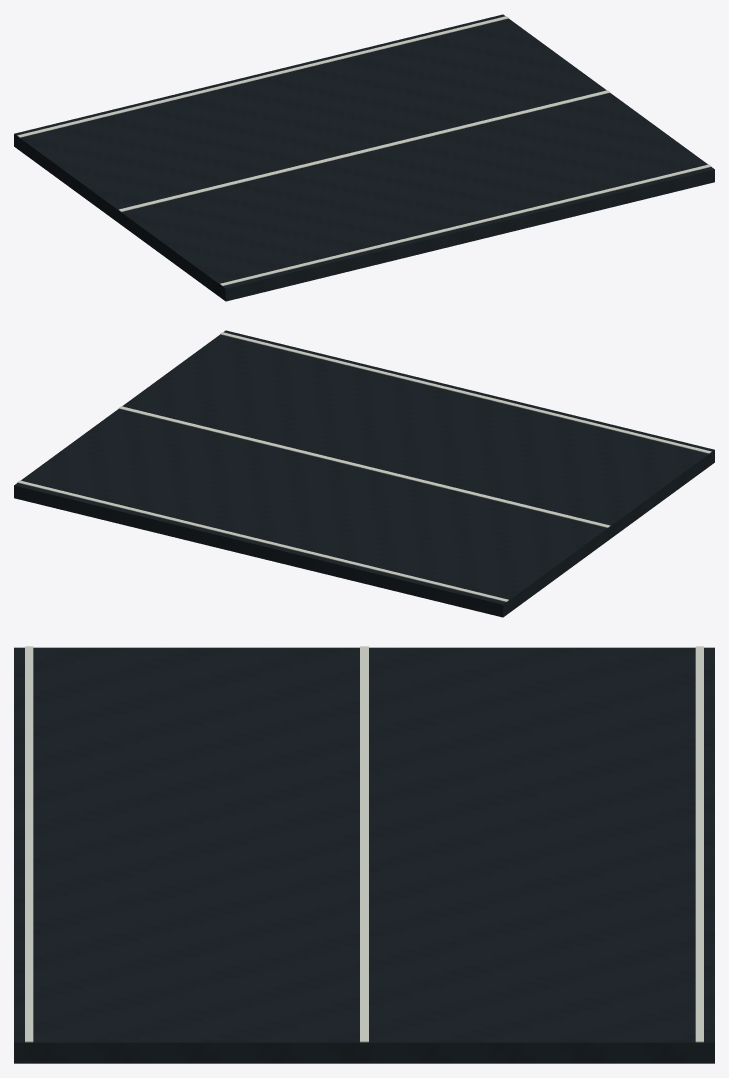
Rendered from Transit_Road_2L_Straight_8m.glb.
3 views of the same model, one above another, from view 1: azimuth 30°, elevation 25°; view 2: azimuth 150°, elevation 25°; view 3: azimuth 270°, elevation 25° (orthographic). The views are drawn at different scales.
Parts seen in each view (by area): view 1: Transit_Road_2L_Straight_8m_Surface, Transit_Road_2L_Straight_8m_MarkLane1, Transit_Road_2L_Straight_8m_MarkEdge-1, Transit_Road_2L_Straight_8m_MarkEdge+1; view 2: Transit_Road_2L_Straight_8m_Surface, Transit_Road_2L_Straight_8m_MarkLane1, Transit_Road_2L_Straight_8m_MarkEdge+1, Transit_Road_2L_Straight_8m_MarkEdge-1; view 3: Transit_Road_2L_Straight_8m_Surface, Transit_Road_2L_Straight_8m_MarkLane1, Transit_Road_2L_Straight_8m_MarkEdge-1, Transit_Road_2L_Straight_8m_MarkEdge+1.
Boxes of the visible parts, box(x1,y1,x2,y2) form: Transit_Road_2L_Straight_8m_Surface: box(14, 14, 714, 301); Transit_Road_2L_Straight_8m_MarkLane1: box(118, 90, 610, 211); Transit_Road_2L_Straight_8m_MarkEdge-1: box(220, 164, 711, 285); Transit_Road_2L_Straight_8m_MarkEdge+1: box(17, 16, 508, 137); Transit_Road_2L_Straight_8m_Surface: box(14, 330, 714, 617); Transit_Road_2L_Straight_8m_MarkLane1: box(118, 406, 610, 527); Transit_Road_2L_Straight_8m_MarkEdge+1: box(17, 480, 508, 601); Transit_Road_2L_Straight_8m_MarkEdge-1: box(220, 332, 711, 453); Transit_Road_2L_Straight_8m_Surface: box(14, 647, 714, 1063); Transit_Road_2L_Straight_8m_MarkLane1: box(360, 646, 368, 1042); Transit_Road_2L_Straight_8m_MarkEdge-1: box(25, 646, 33, 1042); Transit_Road_2L_Straight_8m_MarkEdge+1: box(695, 646, 703, 1042).
Size of the model in its own units: 8 by 0.212 by 6.
2 materials, 1 textured.
